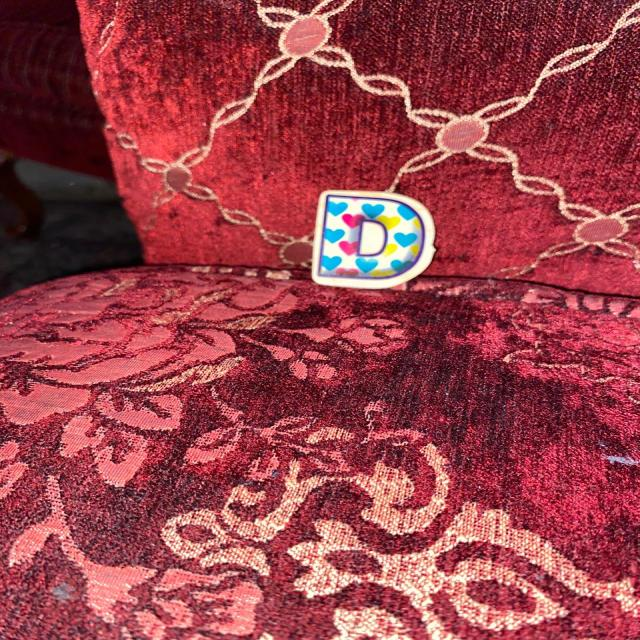D: (312, 192, 435, 288)
